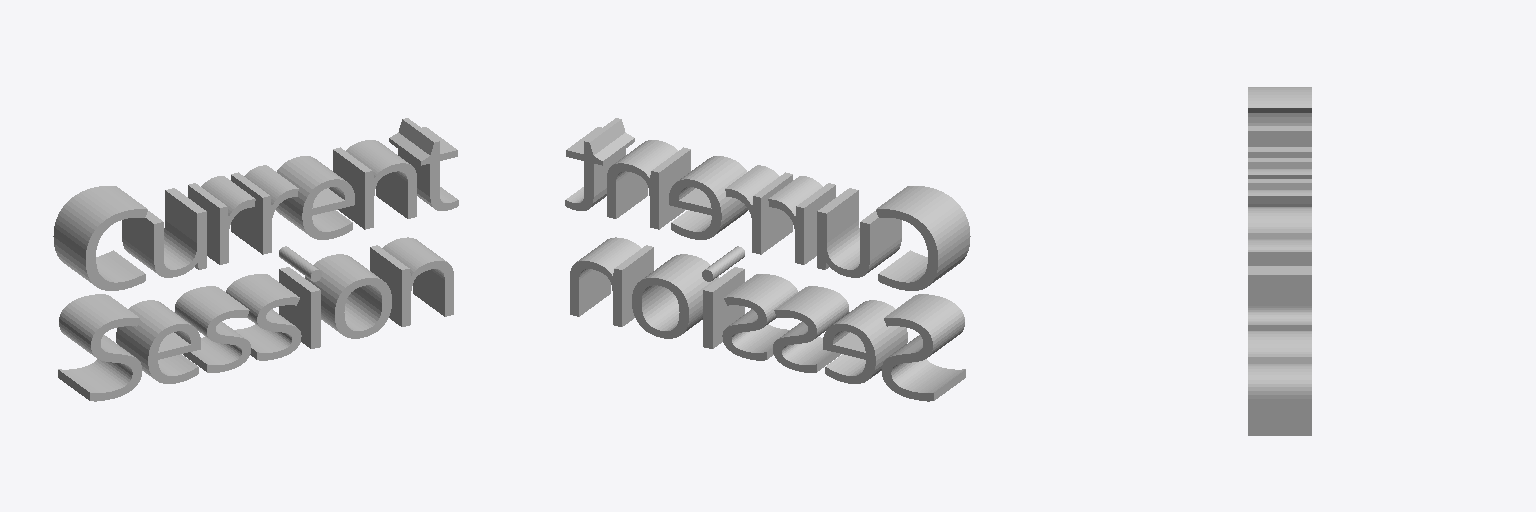
The model's file is current_text.obj.
3 renders of one model, left to right at view 1: azimuth 30°, elevation 25°; view 2: azimuth 150°, elevation 25°; view 3: azimuth 270°, elevation 25°, orthographic.
Visible parts, largest first — view 1: 007_3D_Text_1_-_C, 000_3D_Text_1_-_S, 008_3D_Text_1_-_u, 012_3D_Text_1_-_n, 006_3D_Text_1_-_n, 005_3D_Text_1_-_o, 001_3D_Text_1_-_e, 011_3D_Text_1_-_e, 002_3D_Text_1_-_s, 003_3D_Text_1_-_s, 010_3D_Text_1_-_r, 013_3D_Text_1_-_t (+2 smaller); view 2: 007_3D_Text_1_-_C, 000_3D_Text_1_-_S, 008_3D_Text_1_-_u, 012_3D_Text_1_-_n, 006_3D_Text_1_-_n, 005_3D_Text_1_-_o, 001_3D_Text_1_-_e, 011_3D_Text_1_-_e, 002_3D_Text_1_-_s, 003_3D_Text_1_-_s, 010_3D_Text_1_-_r, 013_3D_Text_1_-_t (+2 smaller); view 3: 006_3D_Text_1_-_n, 013_3D_Text_1_-_t, 007_3D_Text_1_-_C, 008_3D_Text_1_-_u, 010_3D_Text_1_-_r, 005_3D_Text_1_-_o, 011_3D_Text_1_-_e, 009_3D_Text_1_-_r, 012_3D_Text_1_-_n.
Boxes of the visible parts, x1,y1,x2,y2 form: 007_3D_Text_1_-_C: [53, 186, 147, 290]; 000_3D_Text_1_-_S: [58, 294, 141, 401]; 008_3D_Text_1_-_u: [122, 188, 206, 277]; 012_3D_Text_1_-_n: [333, 140, 416, 229]; 006_3D_Text_1_-_n: [370, 237, 453, 326]; 005_3D_Text_1_-_o: [305, 254, 391, 338]; 001_3D_Text_1_-_e: [116, 300, 200, 383]; 011_3D_Text_1_-_e: [276, 156, 354, 239]; 002_3D_Text_1_-_s: [175, 286, 250, 372]; 003_3D_Text_1_-_s: [226, 274, 301, 360]; 010_3D_Text_1_-_r: [231, 165, 298, 254]; 013_3D_Text_1_-_t: [389, 118, 458, 210]; 007_3D_Text_1_-_C: [876, 186, 970, 290]; 000_3D_Text_1_-_S: [882, 294, 965, 401]; 008_3D_Text_1_-_u: [817, 188, 901, 277]; 012_3D_Text_1_-_n: [607, 140, 690, 229]; 006_3D_Text_1_-_n: [570, 237, 653, 326]; 005_3D_Text_1_-_o: [632, 254, 718, 338]; 001_3D_Text_1_-_e: [823, 300, 907, 383]; 011_3D_Text_1_-_e: [669, 156, 747, 239]; 002_3D_Text_1_-_s: [773, 286, 848, 372]; 003_3D_Text_1_-_s: [722, 274, 797, 360]; 010_3D_Text_1_-_r: [725, 165, 792, 254]; 013_3D_Text_1_-_t: [565, 118, 634, 210]; 006_3D_Text_1_-_n: [1248, 354, 1311, 435]; 013_3D_Text_1_-_t: [1248, 250, 1311, 330]; 007_3D_Text_1_-_C: [1248, 87, 1311, 125]; 008_3D_Text_1_-_u: [1248, 126, 1311, 157]; 010_3D_Text_1_-_r: [1248, 179, 1311, 206]; 005_3D_Text_1_-_o: [1248, 331, 1311, 353]; 011_3D_Text_1_-_e: [1248, 207, 1311, 228]; 009_3D_Text_1_-_r: [1248, 158, 1311, 178]; 012_3D_Text_1_-_n: [1248, 229, 1311, 249].
Bounding box in the file's own units: 7.1 × 3.36 × 1.06.